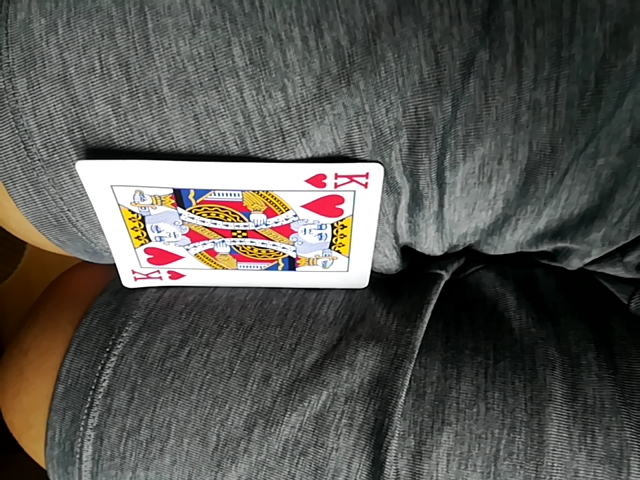hx k: (80, 161, 380, 291)
